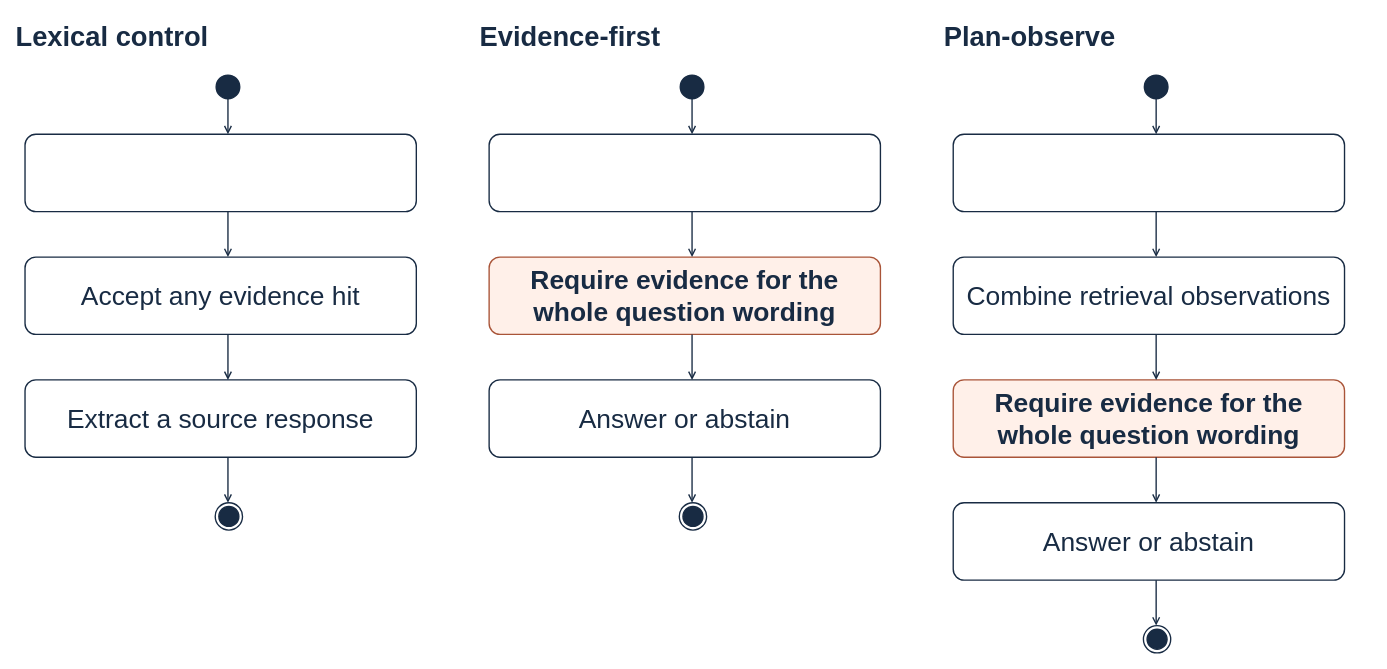
This 1387x669 diagram has some shape labels left out. Here are the shapes that lost their labels. From the top down, the centre of each, then its label:
(220,172): Retrieve lexical matches
(684,172): Retrieve hierarchical evidence
(1148,172): Decompose and retrieve
